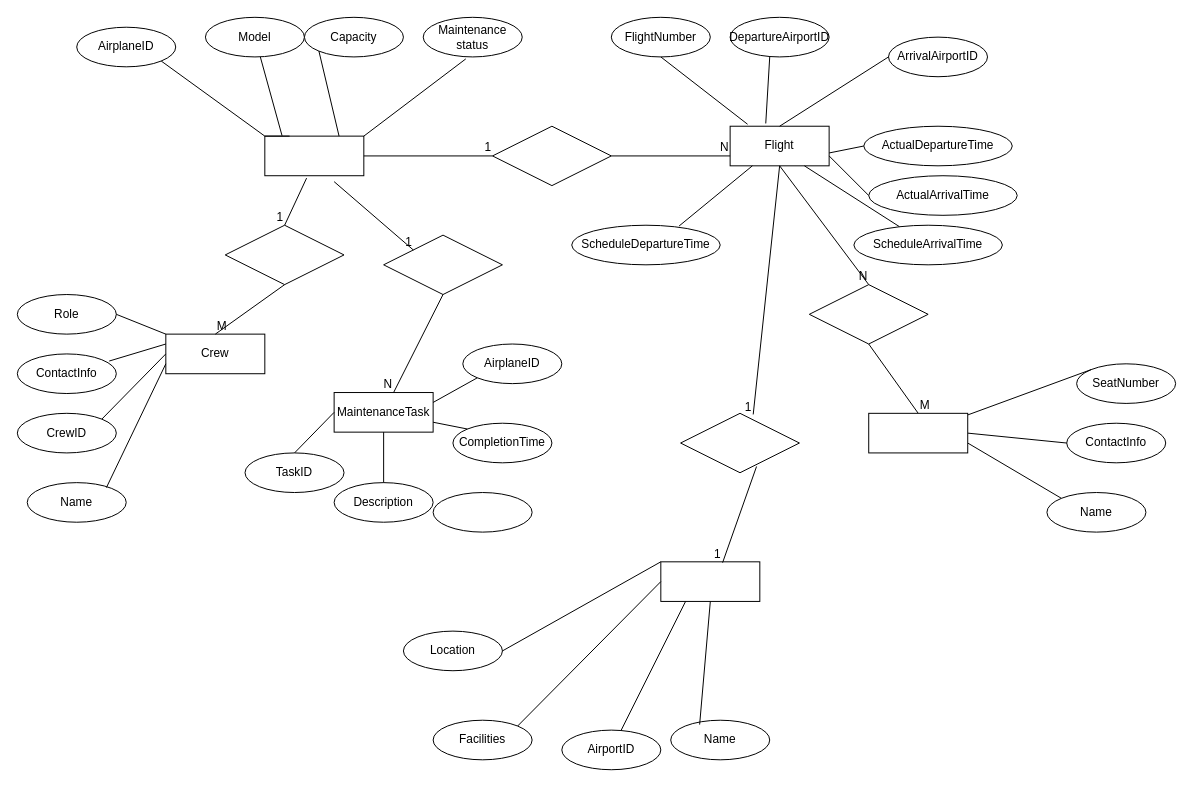
Image size: 1193x787. Some labels were removed from this diagram. Here are the shapes that lost their labels. From the top down, the centre of each, then its label:
the point at 314,155: Airplane
the point at 551,155: isAssociatedWith
the point at 284,254: IsAssignedto
the point at 442,264: hasRelationshipwith
the point at 868,314: has
the point at 739,442: Arrivesat
the point at 918,432: Passenger
the point at 482,512: Starttime
the point at 710,581: Airport
